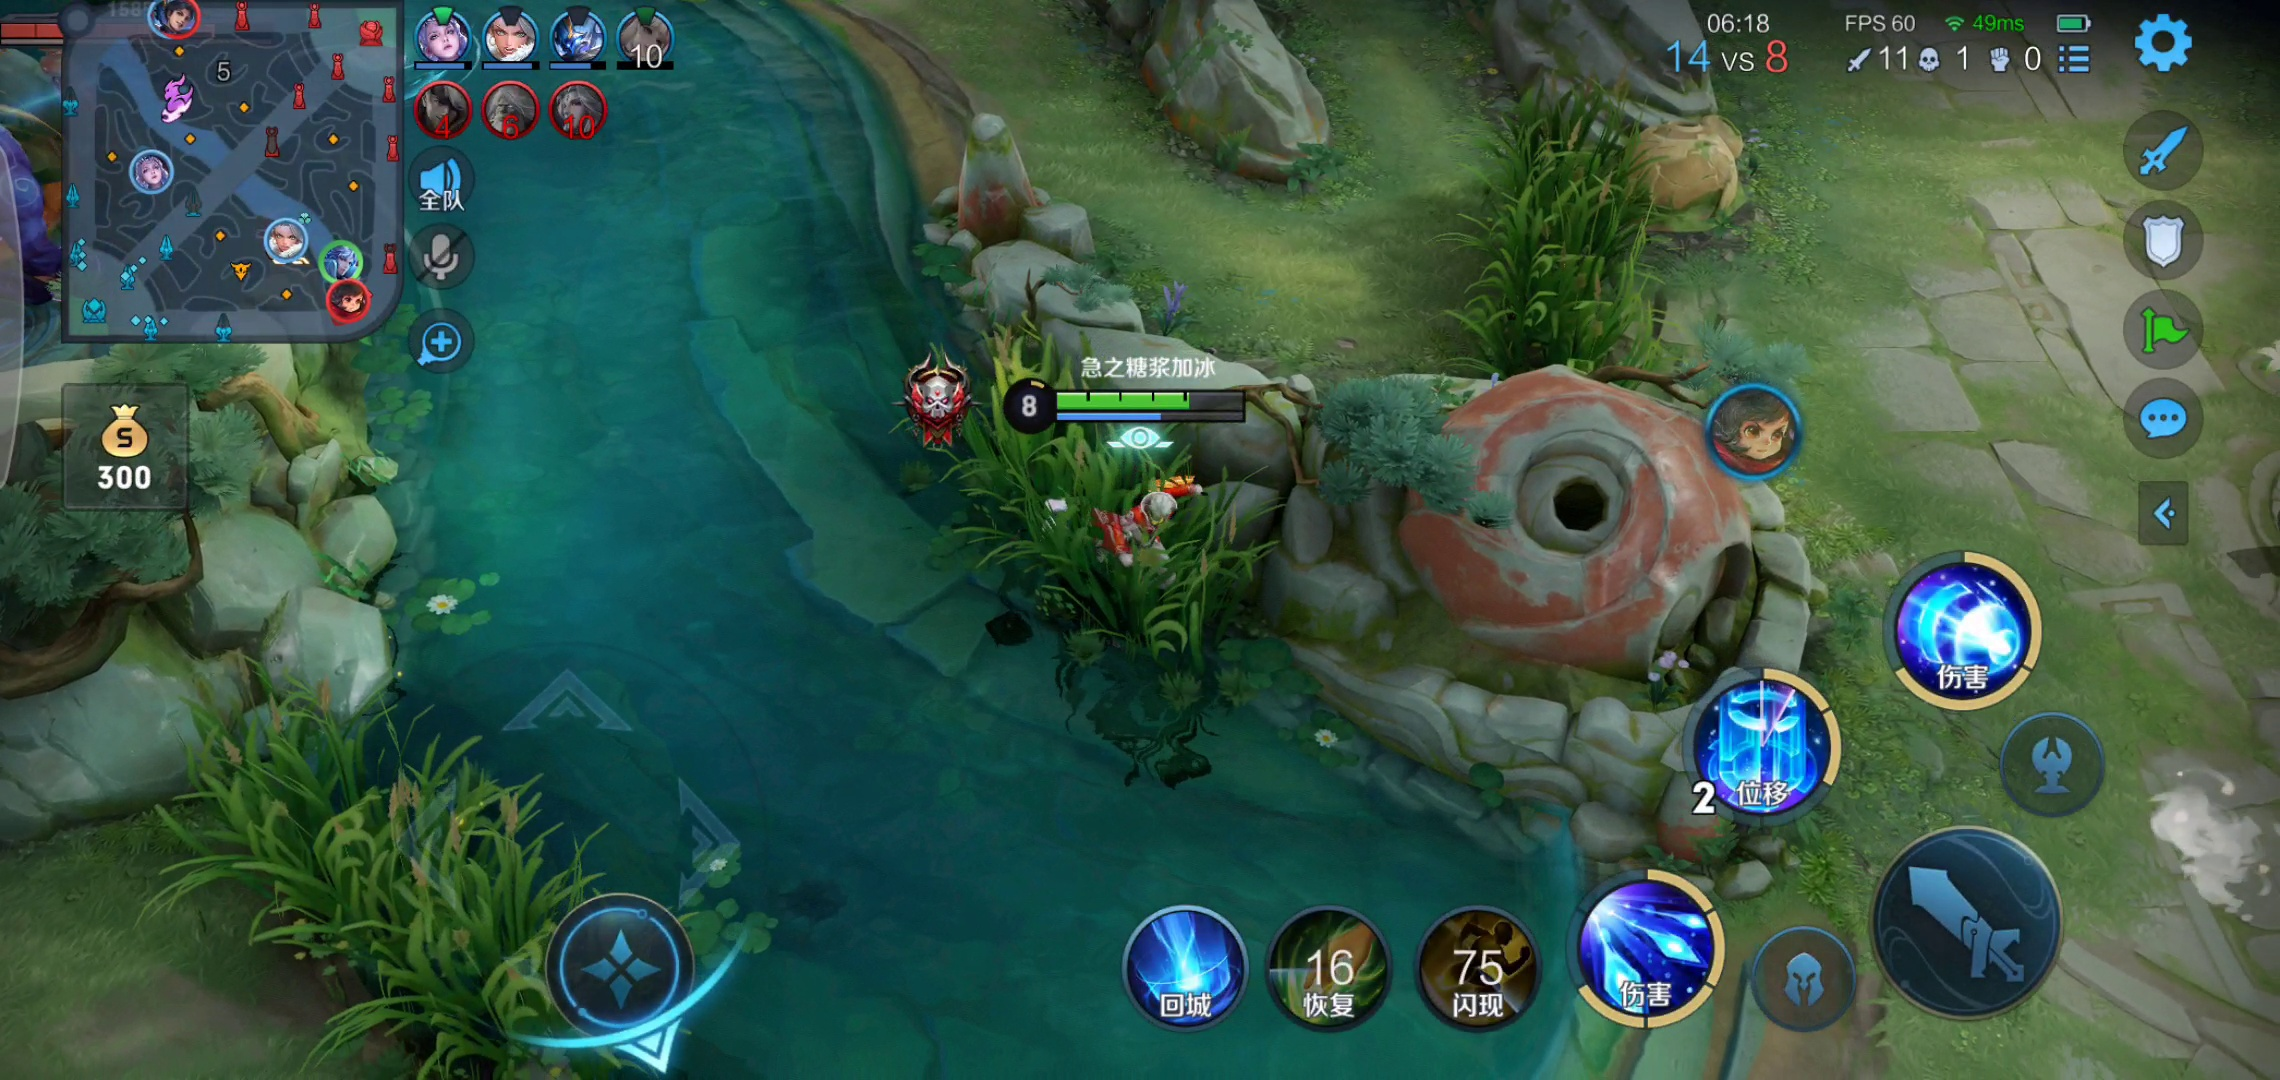grass: (174, 709, 763, 1052), (906, 314, 1246, 690), (1460, 90, 1650, 360)
hero: (1075, 456, 1181, 597)
